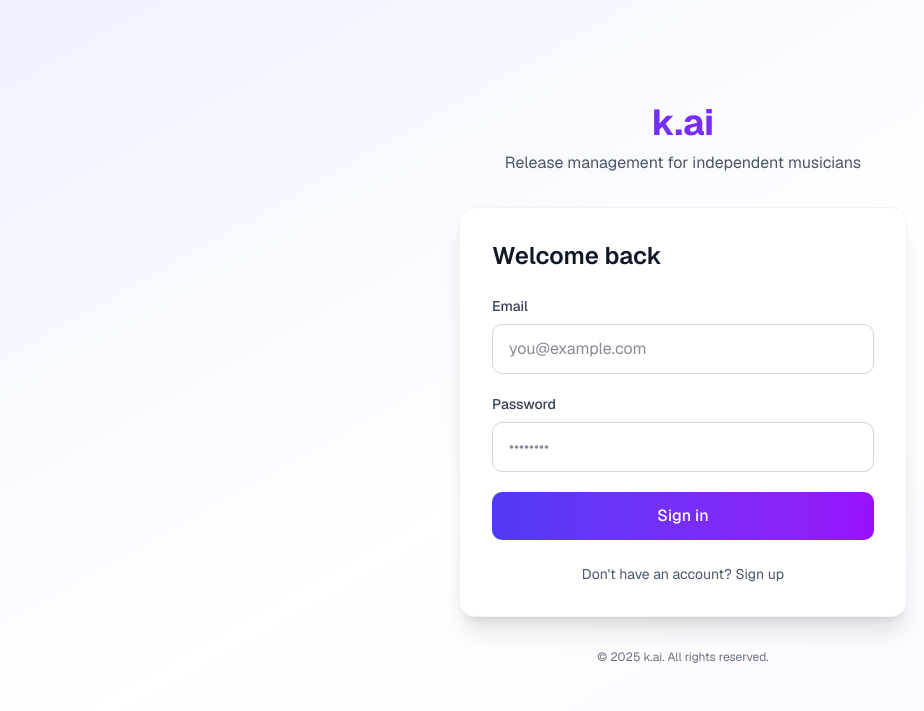
Scenario: LoginPage › displays error message on login failure
The width and height of the screenshot is (924, 711).
Type "test@example.com" into the field with placeholder "you@example.com" at point(683, 349), box [492,324,874,374]
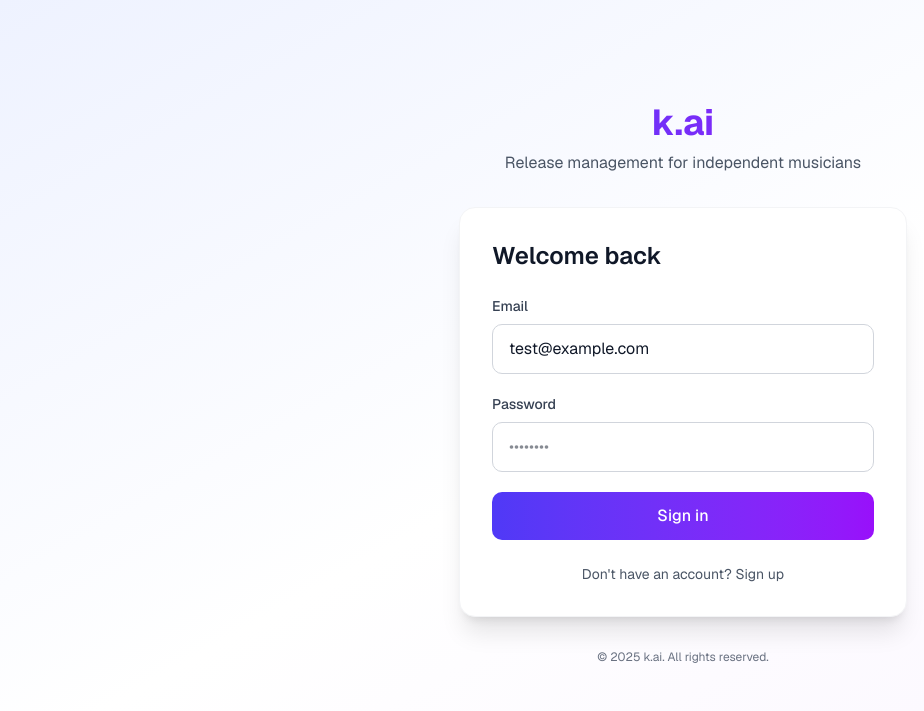
Type "wrongpassword" into the password field with placeholder "••••••••" at point(683, 447), box [492,422,874,472]
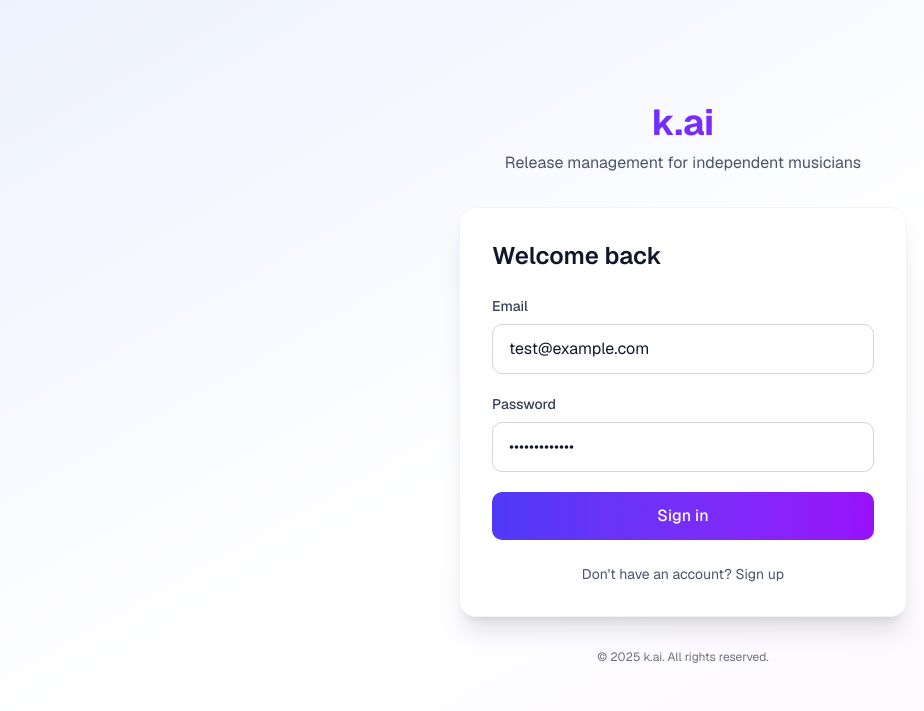
Click the button "Sign in" at point(683, 516), box [492,492,874,540]
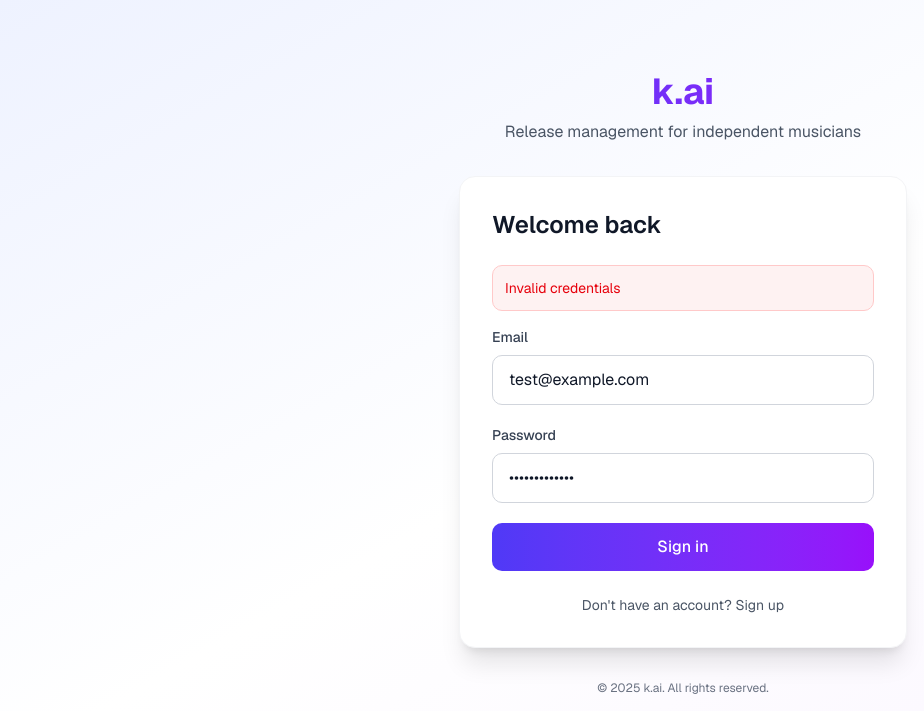
Now the text "Invalid credentials" is shown, box [492,265,874,311]
